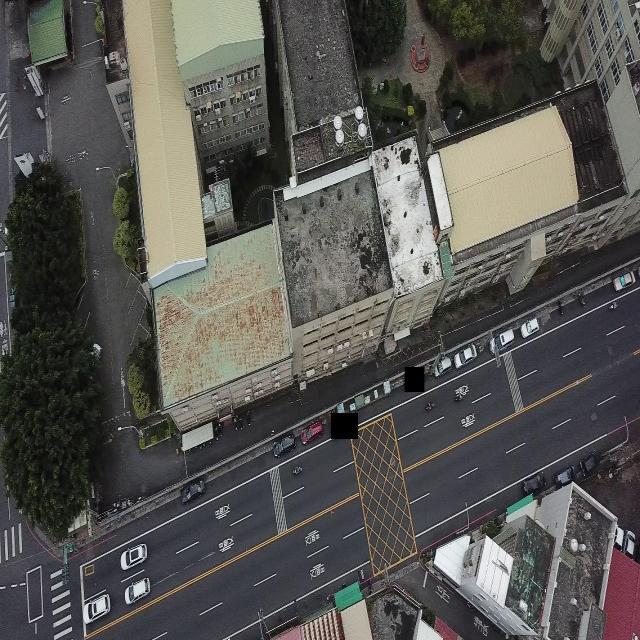car: (82, 590, 110, 625), (120, 542, 147, 570), (124, 576, 150, 605), (489, 327, 514, 355), (272, 432, 296, 458), (522, 470, 546, 496), (454, 342, 476, 370), (181, 479, 204, 504), (580, 450, 600, 478), (301, 420, 323, 445), (554, 464, 576, 489), (613, 270, 635, 291), (434, 353, 452, 377), (520, 316, 539, 338), (90, 343, 102, 360)
